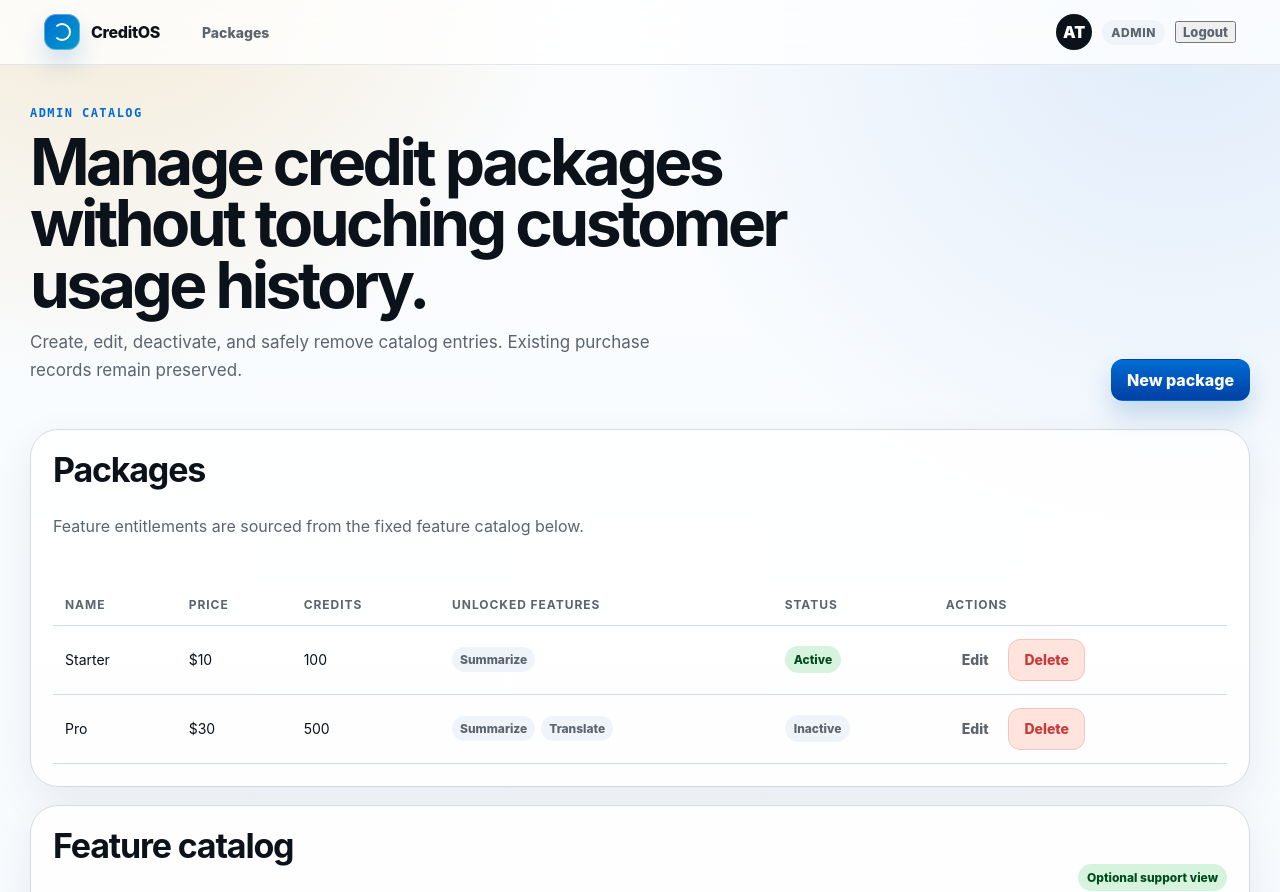
Admin packages page › pre-fills package values when editing
Check: the text "Starter" is shown, box [53,625,177,694]
// Click "Edit" on the first package row
Click the button "Edit" in the row of "Starter".
click(975, 660)  # box [946,639,1004,681]
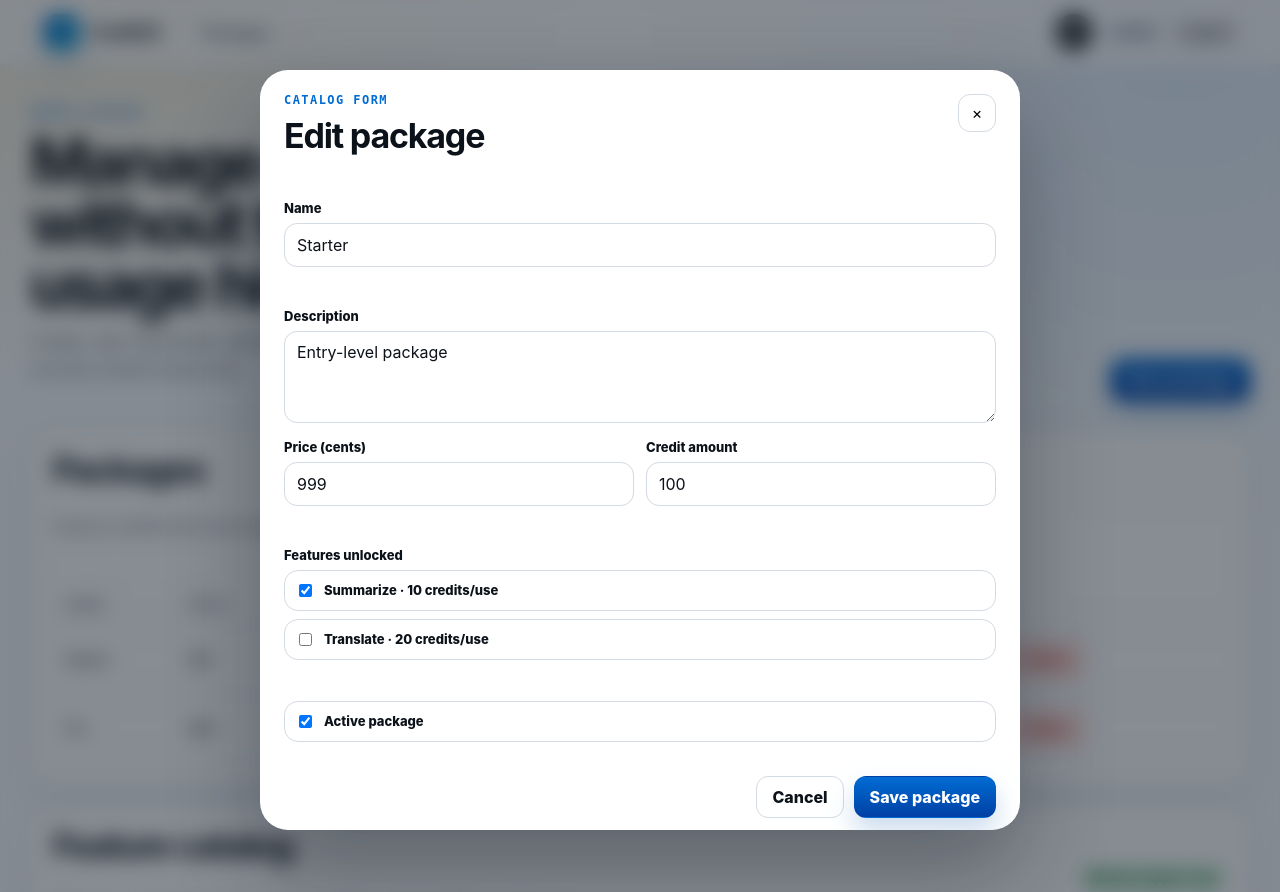
Check: the heading "Edit package" is shown, box [284,118,484,154]
Check: the field labelled "Name" holds "Starter", box [284,223,996,267]
Check: the field labelled "Price (cents)" holds "999", box [284,462,634,506]
